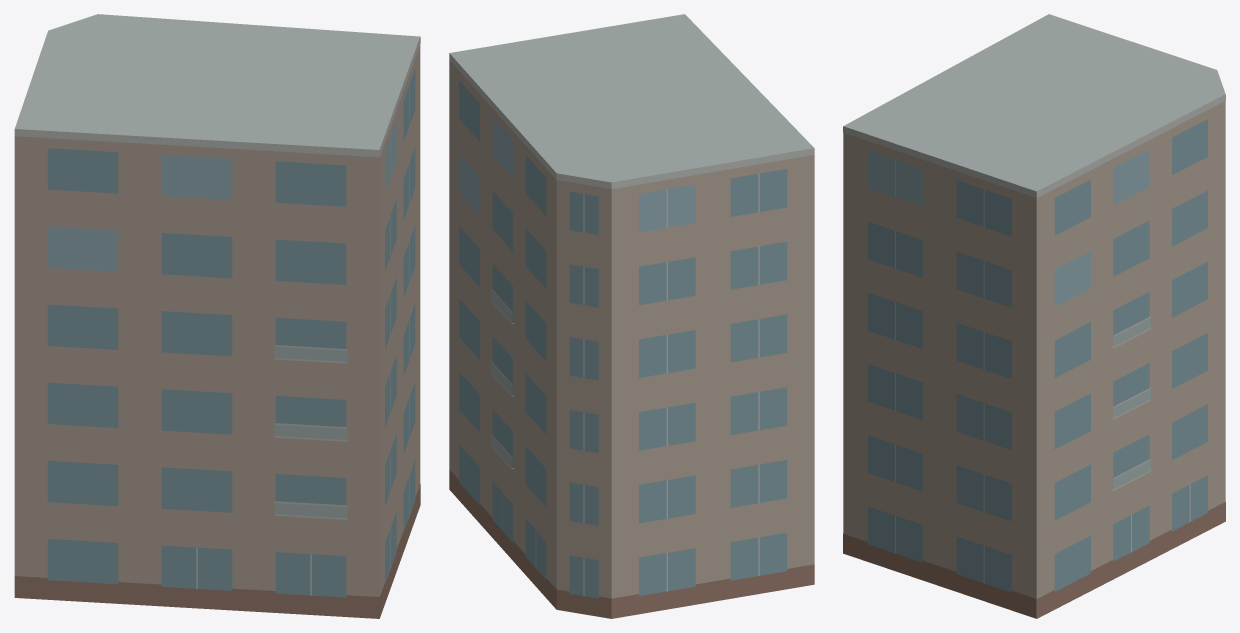
The model's file is survey-upis-33009996.glb.
3 views of the same model, side by side, from view 1: azimuth 30°, elevation 25°; view 2: azimuth 150°, elevation 25°; view 3: azimuth 270°, elevation 25° (orthographic). The views are drawn at different scales.
Visible parts, largest first — view 1: survey-upis-33009996.tmp; view 2: survey-upis-33009996.tmp; view 3: survey-upis-33009996.tmp.
Part boxes in pixels (box(x1,y1,x2,y2)): survey-upis-33009996.tmp: box(14, 14, 420, 618); survey-upis-33009996.tmp: box(449, 14, 814, 618); survey-upis-33009996.tmp: box(843, 14, 1225, 618).
Size of the model in its own units: 14.08 by 15.8 by 12.83.
